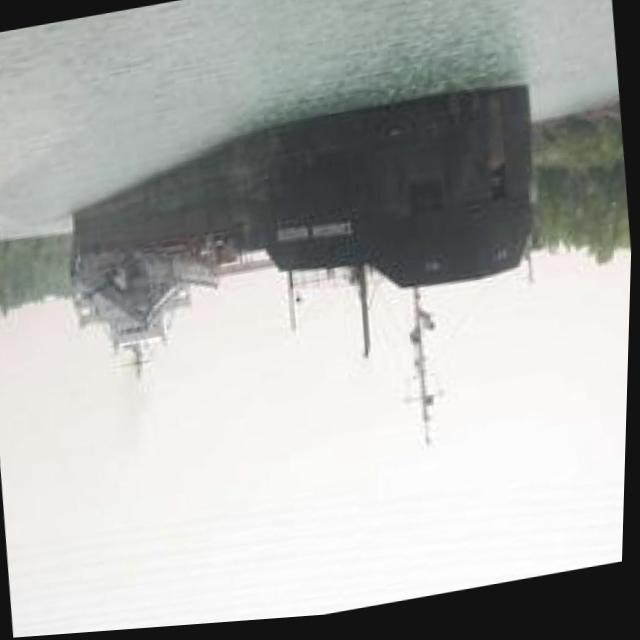ship2: (75, 89, 538, 454)
